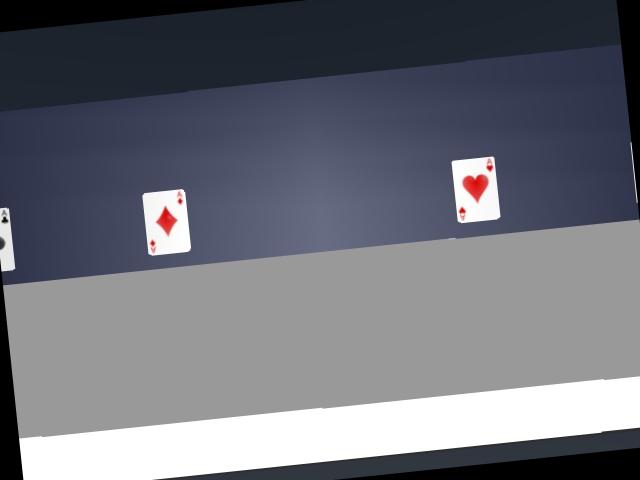diamond: (142, 189, 190, 255)
heart: (452, 157, 499, 222)
